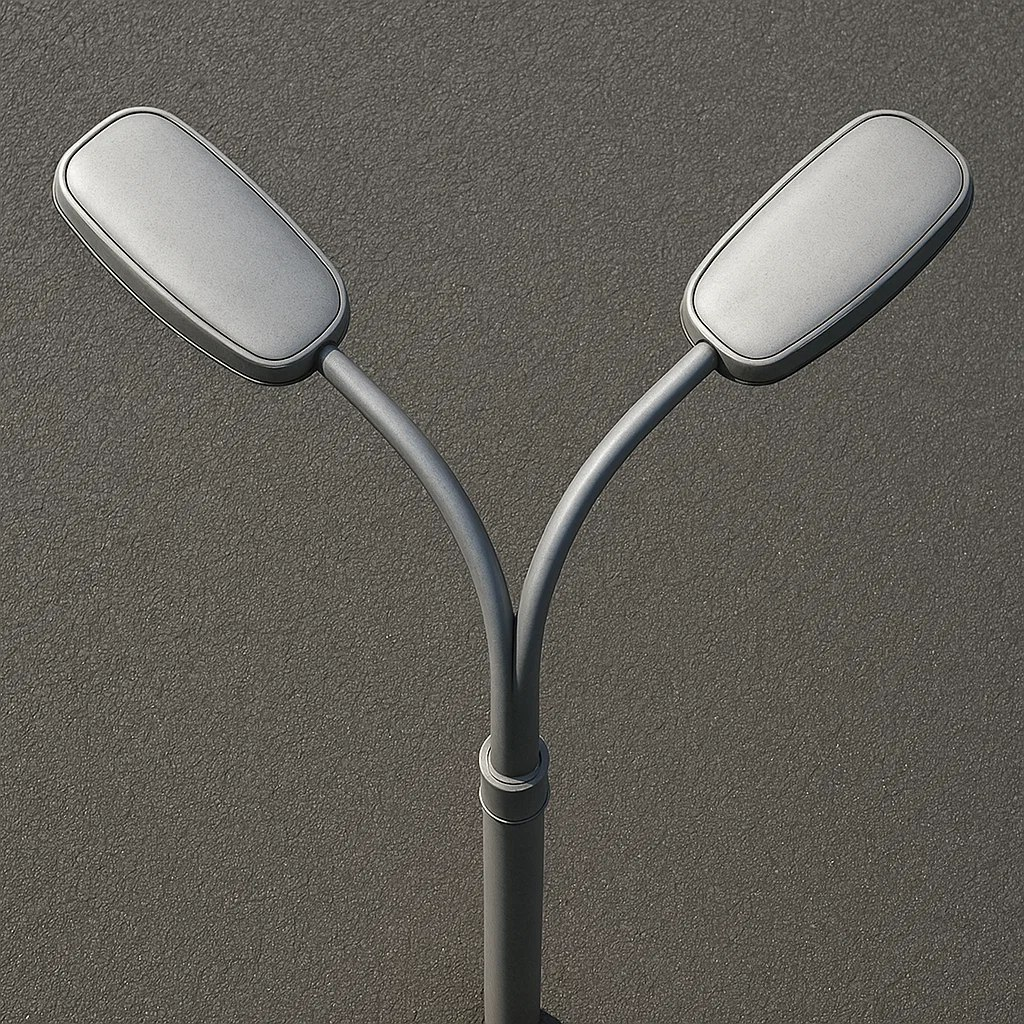Top_Street_Light: (36, 89, 357, 385), (675, 87, 979, 388)
